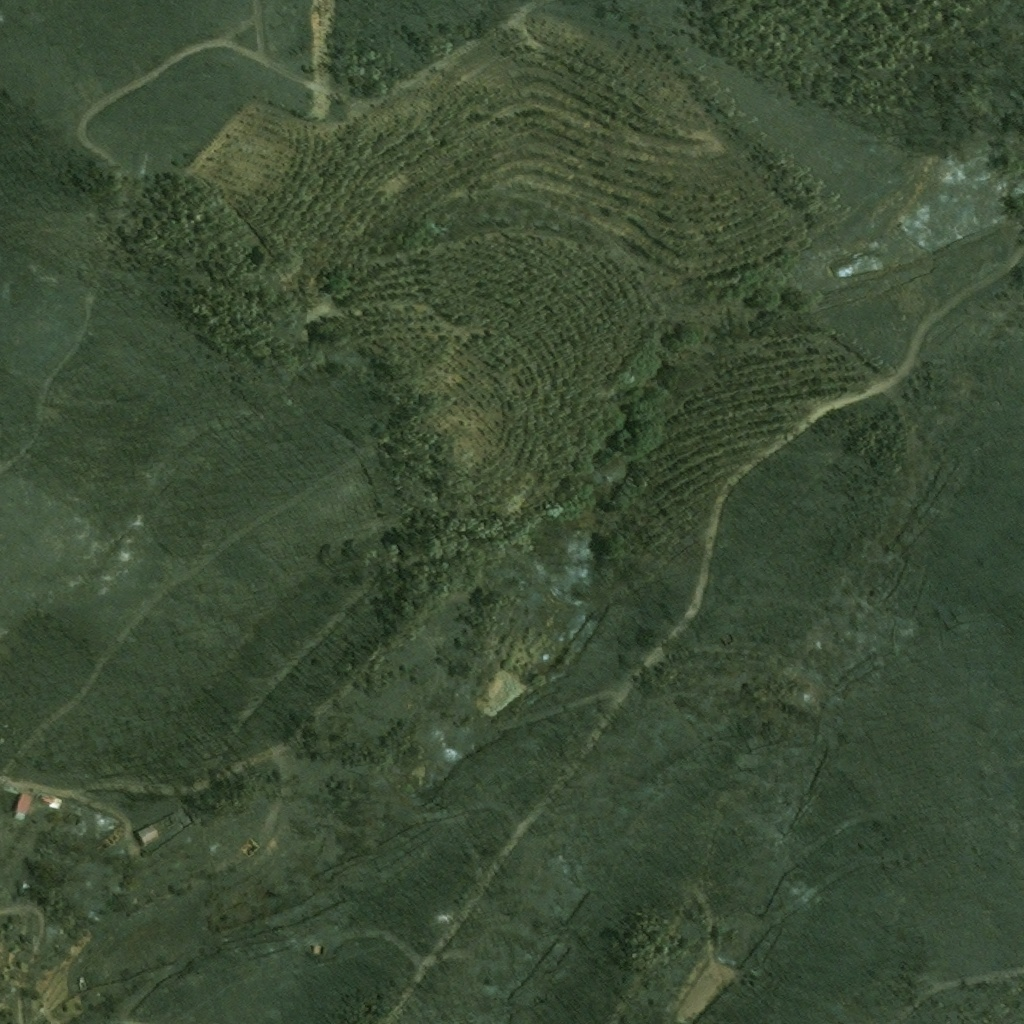0 no-damage: (13, 792, 38, 815), (134, 824, 159, 846)
